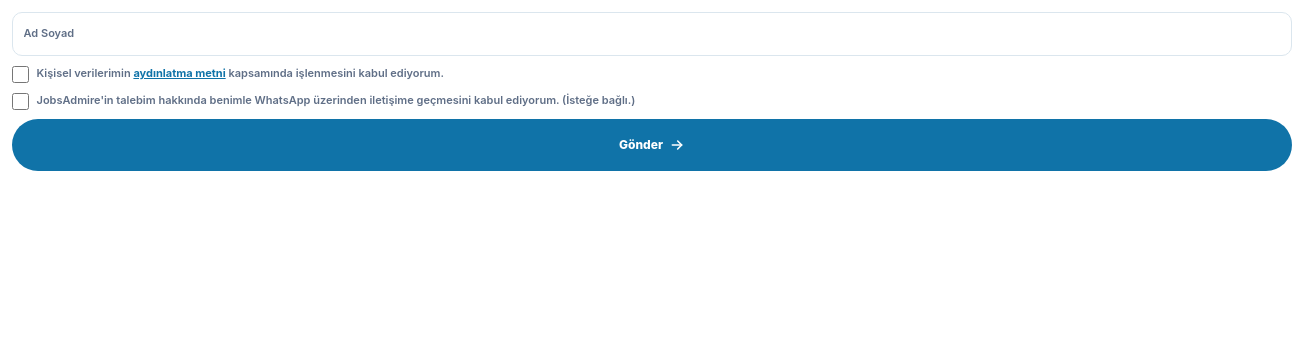
Test case: FormShell › submits through the action and renders its answer (an error state here)
Type "Ayşe" into the field labelled "Ad Soyad".
click(652, 34); type("Ayşe")  # box [12,12,1292,56]
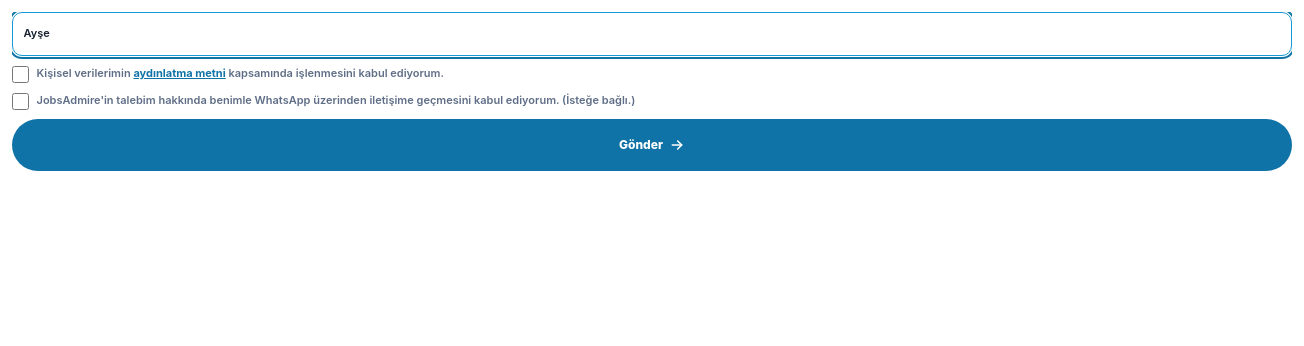
Click the 1st checkbox.
click(20, 74)  # box [12,66,29,83]
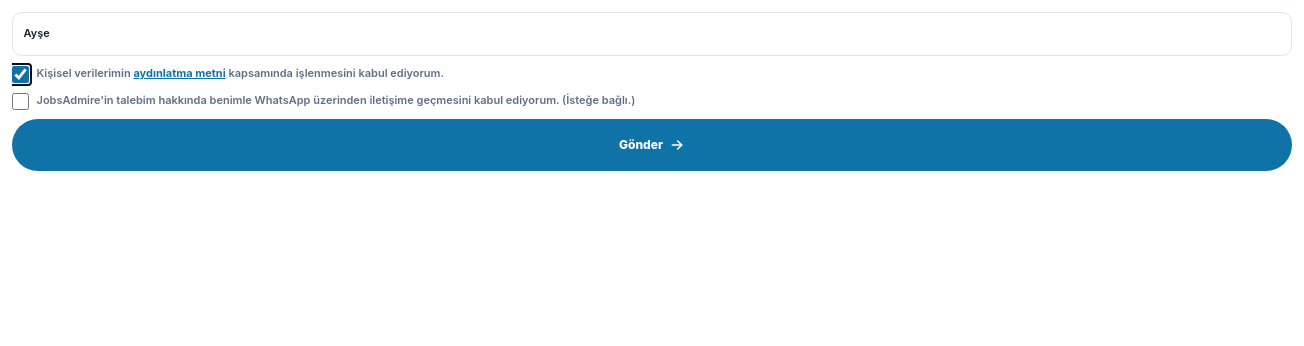
Click the button "Gönder".
click(652, 145)  # box [12,119,1292,171]
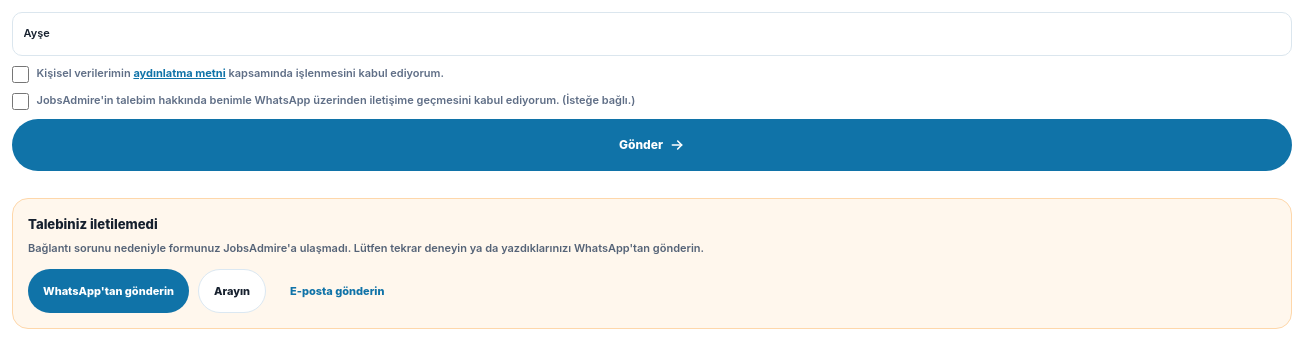
Check: the message is shown, box [12,198,1292,329]
Check: the heading "Talebiniz iletilemedi" is shown, box [28,216,158,232]
